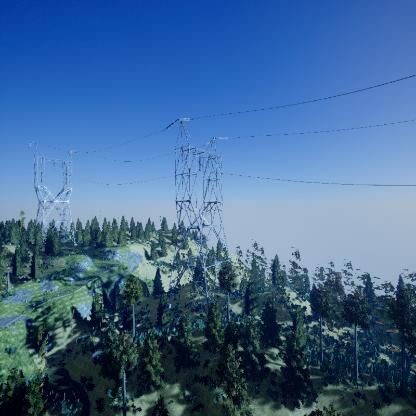tower: (164, 115, 233, 299), (25, 141, 82, 251)
